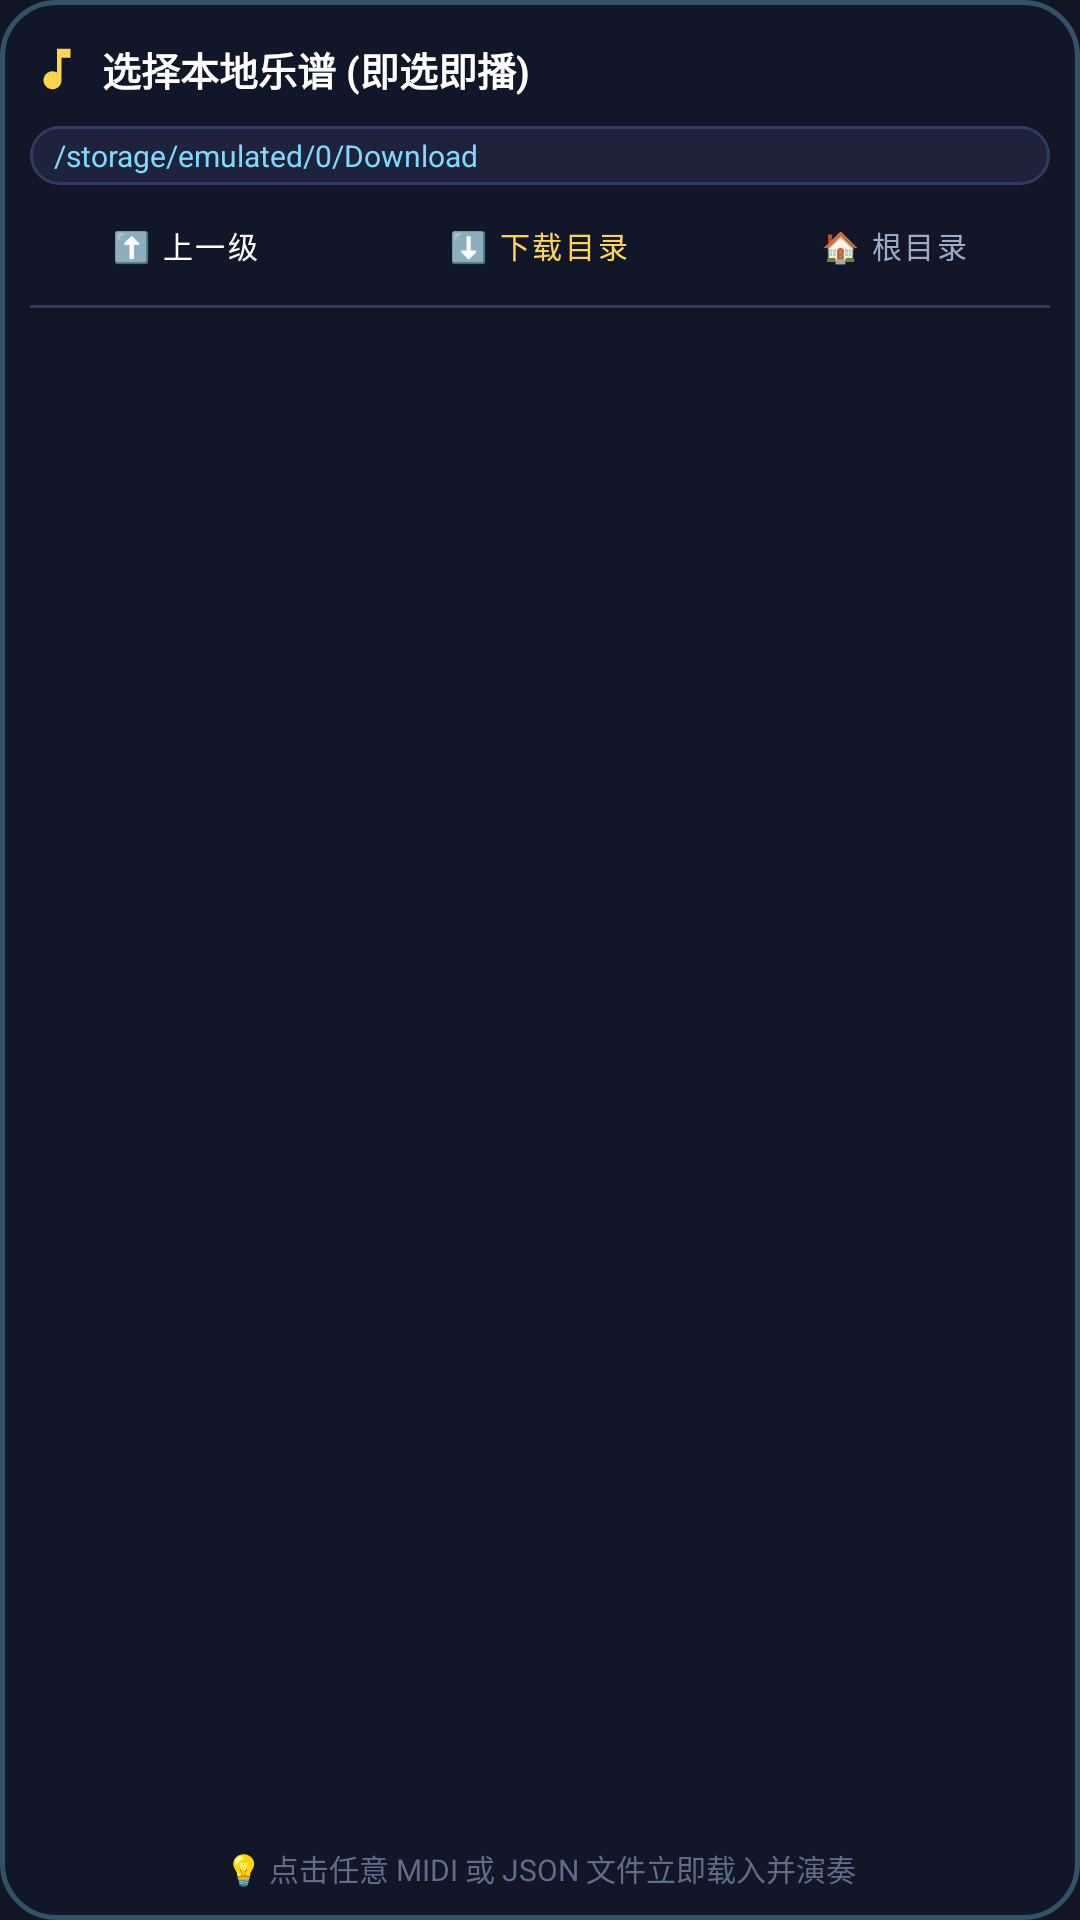

Screen size 1080px x 1920px. Icon name, then its box in pixels as box(x1, y1, x2, y2):
floating note: box(43, 48, 71, 90)
